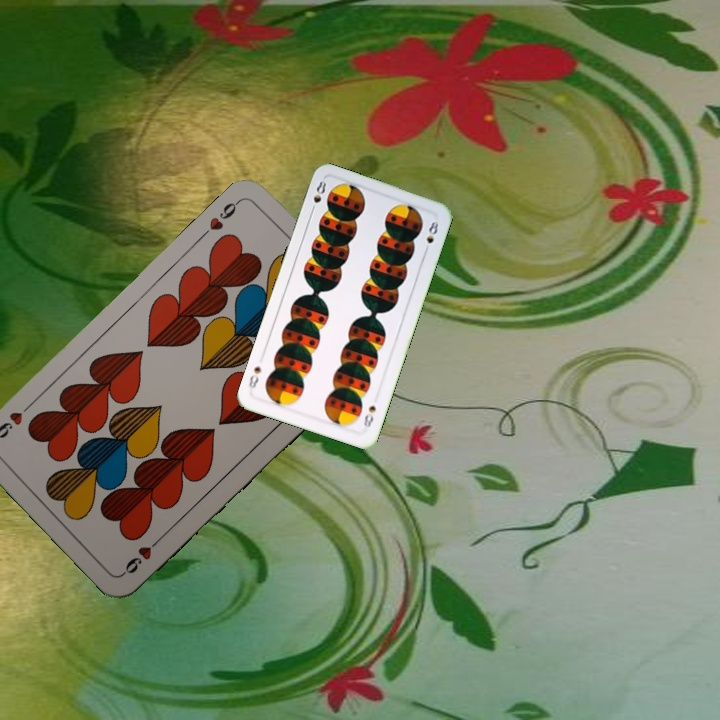H9: (197, 194, 245, 240), (119, 531, 166, 577)
S8: (306, 177, 329, 216), (359, 401, 379, 433)
